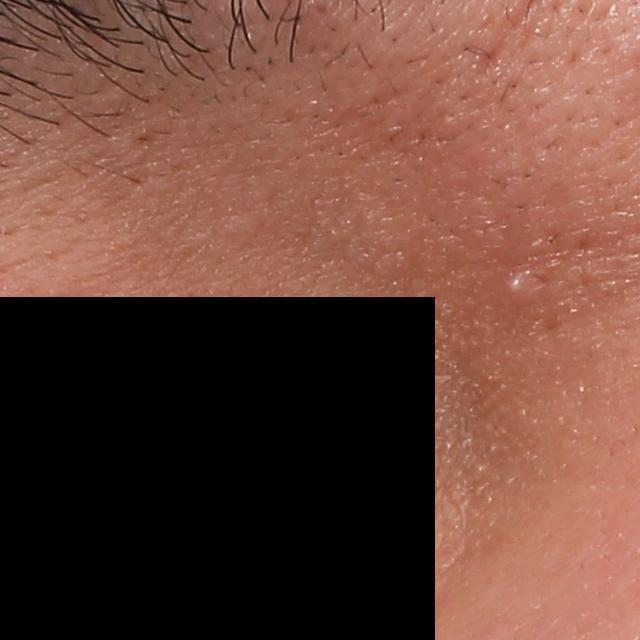pustule: (499, 269, 526, 299)
